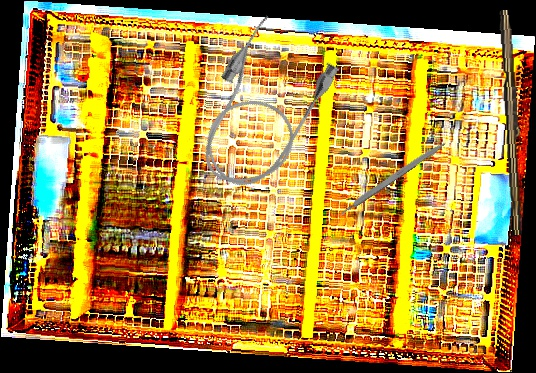Cannula: (177, 10, 346, 204)
Scalpel Handle: (336, 138, 448, 218), (496, 9, 529, 236)
